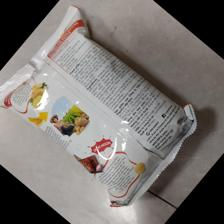Lays: (1, 5, 203, 210)
